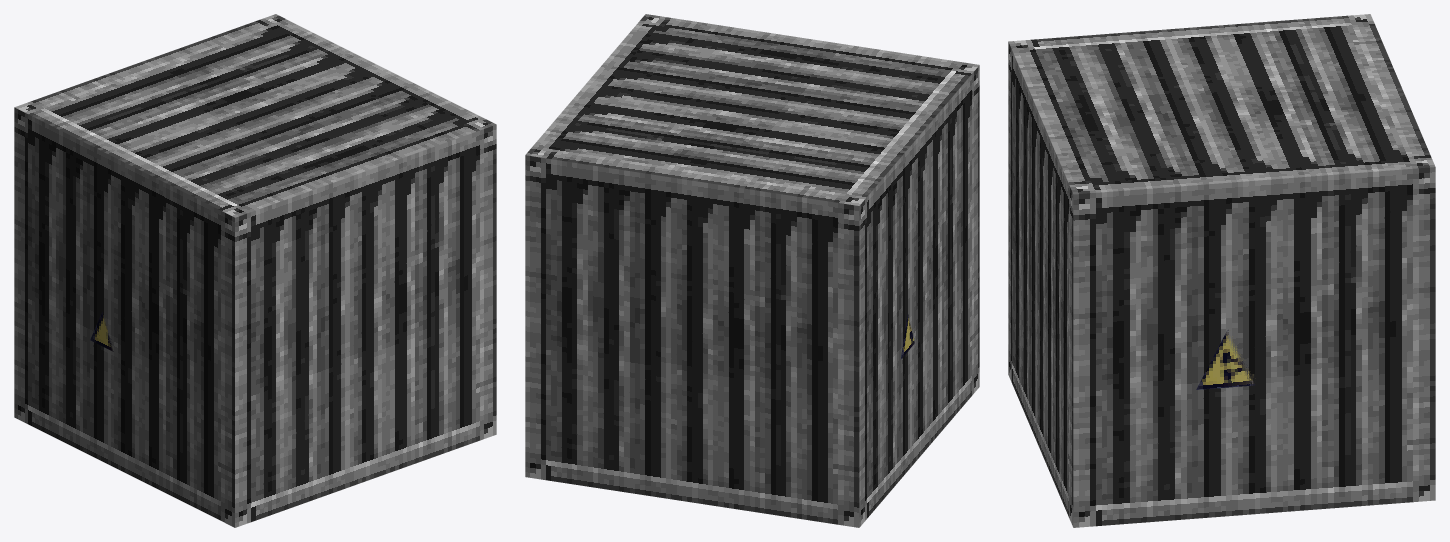
File: primary_065.glb
3 views of the same model, side by side, from view 1: azimuth 30°, elevation 25°; view 2: azimuth 150°, elevation 25°; view 3: azimuth 270°, elevation 25° (orthographic). The views are drawn at different scales.
Parts seen in each view (by area): view 1: Object; view 2: Object; view 3: Object.
Boxes of the visible parts, x1,y1,x2,y2 form: Object: (14,14,496,527); Object: (525,14,979,527); Object: (1008,14,1435,527).
Bounding box in the file's own units: 1.22 × 1.05 × 1.22.
Materials: 2 (2 with a texture image).
